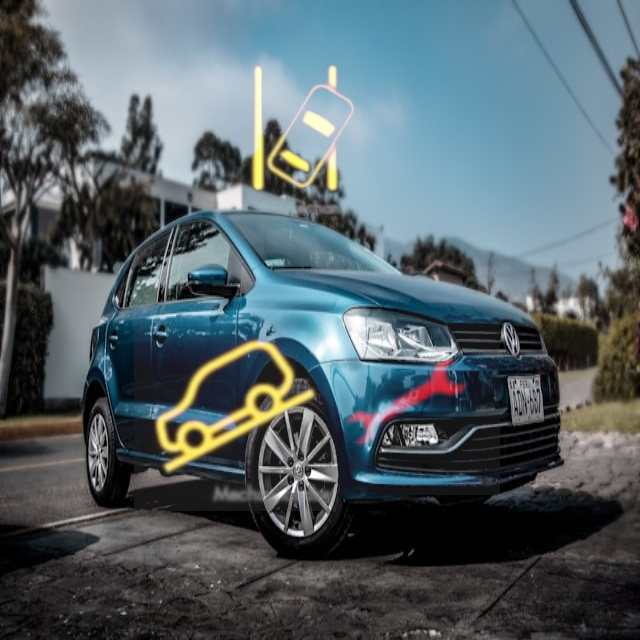symbol: (134, 307, 338, 511), (316, 311, 500, 495), (212, 40, 395, 223)
